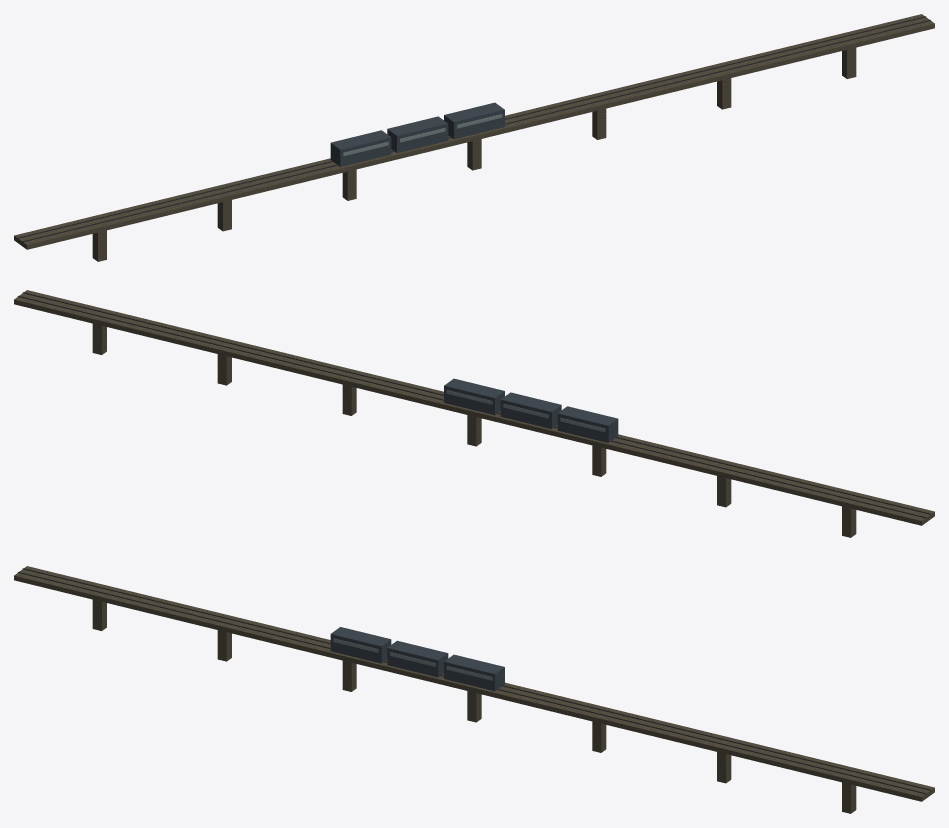
Rendered from amber_elevated_rail_01.glb.
3 renders of one model, top to bottom at view 1: azimuth 30°, elevation 25°; view 2: azimuth 150°, elevation 25°; view 3: azimuth 330°, elevation 25°, orthographic.
Visible parts, largest first — view 1: amber_elevated_rail_01; view 2: amber_elevated_rail_01; view 3: amber_elevated_rail_01.
Part boxes in pixels (x1,y1,x2,y2): amber_elevated_rail_01: [14, 14, 934, 261]; amber_elevated_rail_01: [14, 290, 934, 537]; amber_elevated_rail_01: [14, 566, 934, 813].
Size of the model in its own units: 160 by 9.3 by 4.
Materials: 4 (4 with a texture image).
